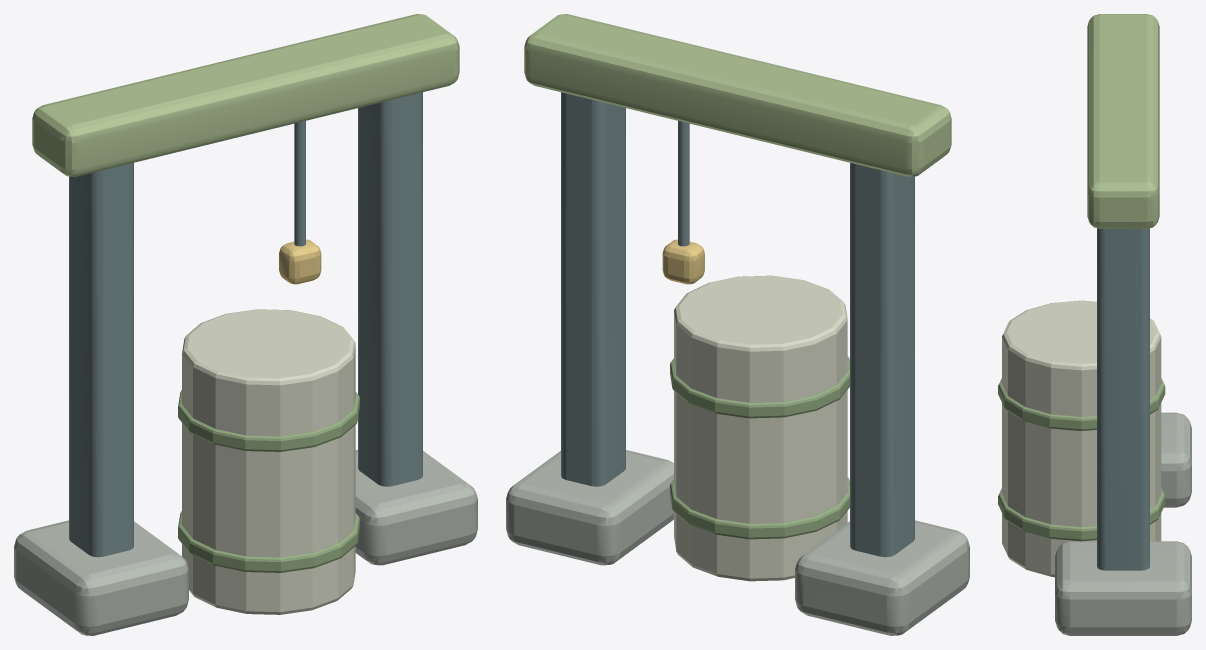
File: repair_gantry.glb
3 renders of one model, left to right at view 1: azimuth 30°, elevation 25°; view 2: azimuth 150°, elevation 25°; view 3: azimuth 270°, elevation 25°, orthographic. The views are drawn at different scales.
Parts seen in each view (by area): view 1: Surface_WorldMetal, Surface_WorldIvory, Surface_WorldRoof, Surface_WorldStone, Surface_WorldOlive, Surface_WorldBrass; view 2: Surface_WorldMetal, Surface_WorldIvory, Surface_WorldRoof, Surface_WorldStone, Surface_WorldOlive, Surface_WorldBrass; view 3: Surface_WorldIvory, Surface_WorldMetal, Surface_WorldRoof, Surface_WorldStone, Surface_WorldOlive.
Part boxes in pixels (x1,y1,x2,y2): Surface_WorldMetal: (69, 92, 422, 557); Surface_WorldIvory: (182, 309, 355, 614); Surface_WorldRoof: (32, 14, 459, 176); Surface_WorldStone: (14, 450, 477, 635); Surface_WorldOlive: (178, 390, 359, 572); Surface_WorldBrass: (279, 239, 321, 284); Surface_WorldMetal: (561, 92, 914, 557); Surface_WorldIvory: (674, 275, 847, 581); Surface_WorldRoof: (524, 14, 951, 176); Surface_WorldStone: (506, 450, 969, 635); Surface_WorldOlive: (670, 356, 849, 539); Surface_WorldBrass: (662, 239, 704, 284); Surface_WorldIvory: (1002, 300, 1161, 577); Surface_WorldMetal: (1097, 228, 1149, 570); Surface_WorldRoof: (1087, 14, 1159, 228); Surface_WorldStone: (1055, 412, 1191, 635); Surface_WorldOlive: (998, 378, 1165, 541).
Size of the model in its own units: 2.22 by 2.64 by 1.02.
